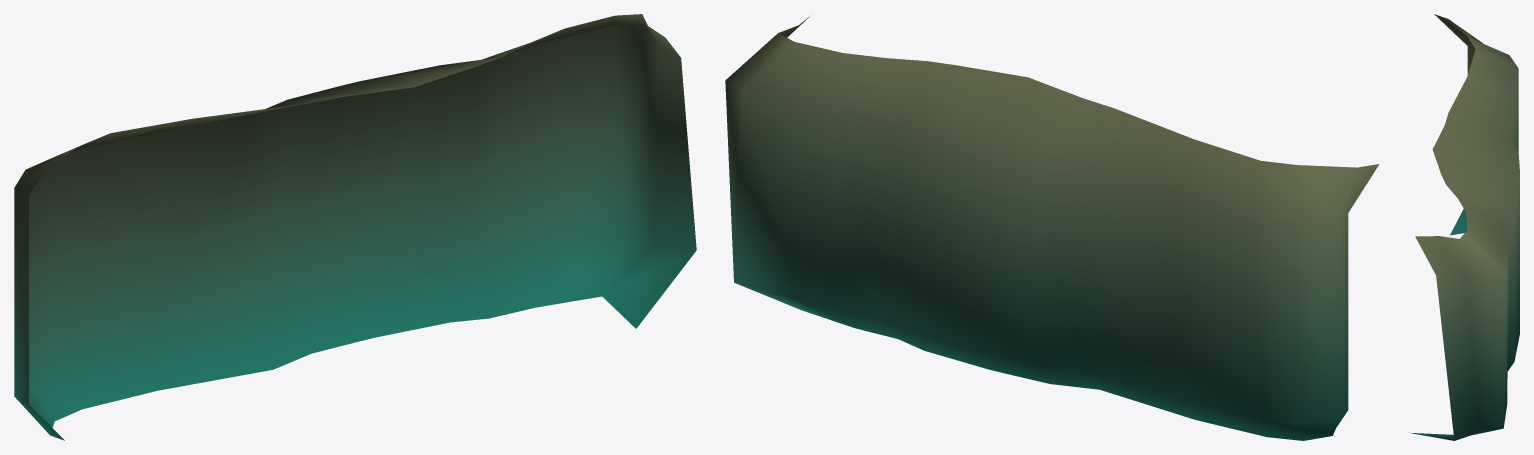
File: Pond_side1.glb
The picture shows the model from 3 angles, left to right: view 1: azimuth 30°, elevation 25°; view 2: azimuth 150°, elevation 25°; view 3: azimuth 270°, elevation 25°; orthographic projection. The views are drawn at different scales.
Parts seen in each view (by area): view 1: Pond.001; view 2: Pond.001; view 3: Pond.001.
Part boxes in pixels (x1,y1,x2,y2): Pond.001: [14, 14, 696, 440]; Pond.001: [725, 16, 1379, 440]; Pond.001: [1408, 14, 1519, 440].
Size of the model in its own units: 8.5 by 3.4 by 1.65.
1 material, 1 textured.
